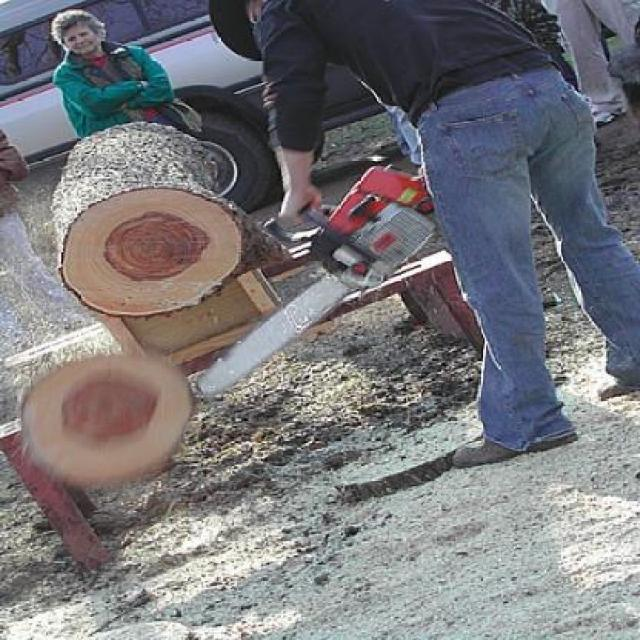Chainsaw: (190, 157, 442, 403)
